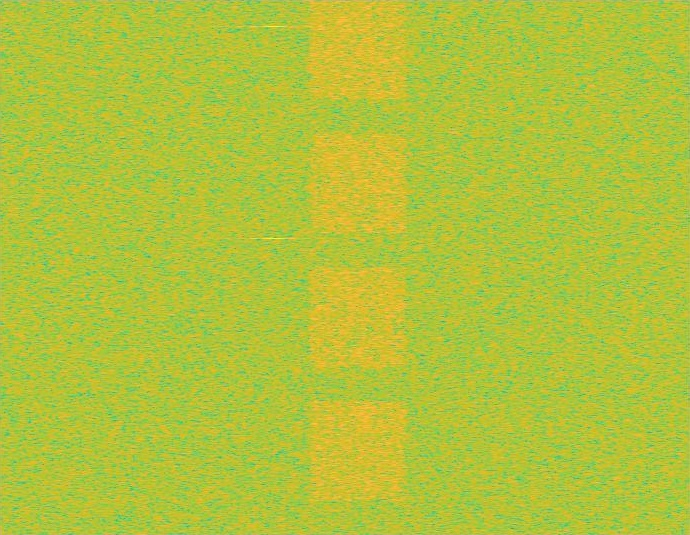5G: (307, 0, 410, 534)
Radar: (267, 0, 281, 534)
